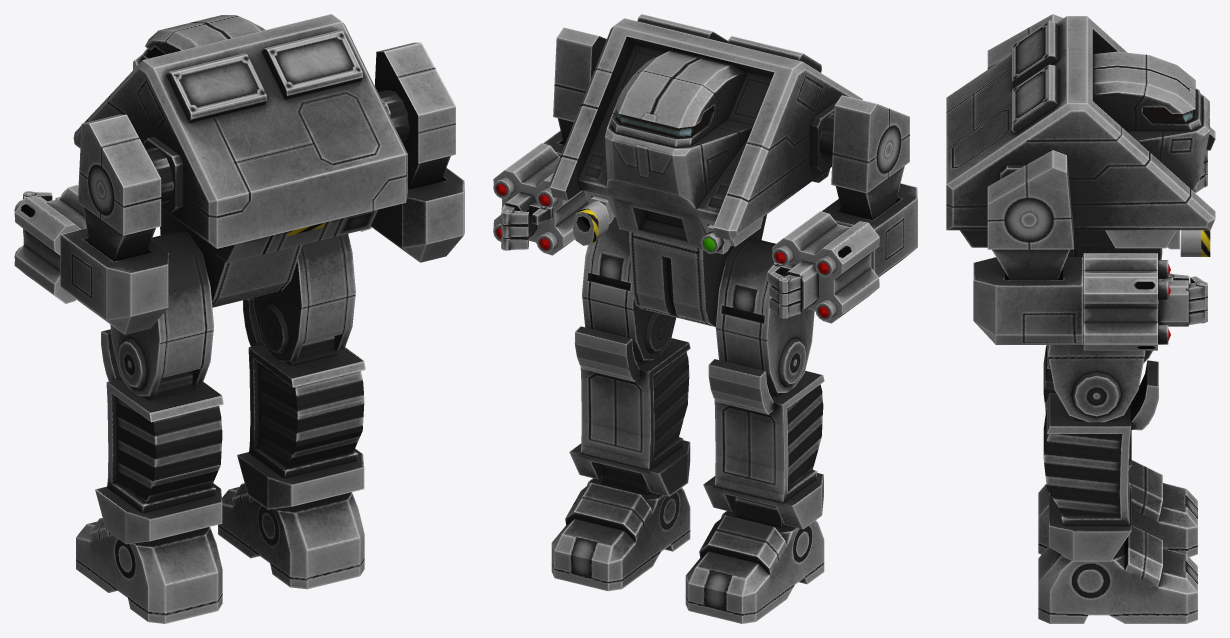
Rendered from Phantom_C.FBX.
The picture shows the model from 3 angles, left to right: view 1: azimuth 30°, elevation 25°; view 2: azimuth 150°, elevation 25°; view 3: azimuth 270°, elevation 25°; orthographic projection. The views are drawn at different scales.
Parts seen in each view (by area): view 1: torso, llowerleg, rlowerleg, llowerarm, lfoot, rfoot, lupperarm, lupperleg, rupperleg, rupperarm, rlowerarm, pelvis; view 2: torso, rlowerleg, llowerleg, lfoot, rfoot, llowerarm, lupperleg, lupperarm, pelvis, rupperleg, rlowerarm, rupperarm (+3 smaller); view 3: torso, rlowerarm, rlowerleg, rfoot, rupperarm, rupperleg, lfoot, rhand, mantlet_10, lupperarm, pelvis, llowerleg.
Boxes of the visible parts, x1=… form: torso: x1=73, y1=14, x2=407, y2=263; llowerleg: x1=95, y1=329, x2=223, y2=544; rlowerleg: x1=237, y1=298, x2=365, y2=509; llowerarm: x1=14, y1=184, x2=168, y2=334; lfoot: x1=76, y1=518, x2=222, y2=623; rfoot: x1=218, y1=483, x2=364, y2=589; lupperarm: x1=78, y1=114, x2=173, y2=261; lupperleg: x1=110, y1=232, x2=213, y2=396; rupperleg: x1=253, y1=234, x2=355, y2=361; rupperarm: x1=375, y1=42, x2=455, y2=189; rlowerarm: x1=360, y1=167, x2=464, y2=262; pelvis: x1=160, y1=208, x2=302, y2=307; torso: x1=549, y1=14, x2=862, y2=249; rlowerleg: x1=569, y1=326, x2=690, y2=496; llowerleg: x1=703, y1=359, x2=824, y2=529; lfoot: x1=685, y1=497, x2=824, y2=623; rfoot: x1=551, y1=464, x2=690, y2=591; llowerarm: x1=772, y1=183, x2=917, y2=323; lupperleg: x1=715, y1=238, x2=814, y2=392; lupperarm: x1=819, y1=95, x2=909, y2=220; pelvis: x1=629, y1=214, x2=766, y2=326; rupperleg: x1=582, y1=217, x2=676, y2=360; rlowerarm: x1=493, y1=130, x2=588, y2=255; rupperarm: x1=553, y1=27, x2=606, y2=144; torso: x1=946, y1=16, x2=1215, y2=248; rlowerarm: x1=973, y1=253, x2=1170, y2=350; rlowerleg: x1=1043, y1=360, x2=1158, y2=561; rfoot: x1=1038, y1=525, x2=1197, y2=623; rupperarm: x1=987, y1=150, x2=1073, y2=280; rupperleg: x1=1048, y1=263, x2=1145, y2=422; lfoot: x1=1038, y1=460, x2=1197, y2=557; rhand: x1=1158, y1=273, x2=1207, y2=326; mantlet_10: x1=1167, y1=230, x2=1210, y2=256; lupperarm: x1=987, y1=14, x2=1063, y2=69; pelvis: x1=1067, y1=246, x2=1162, y2=280; llowerleg: x1=1043, y1=300, x2=1158, y2=469.
Bounding box in the file's own units: 35.22 × 49.47 × 23.45.
Materials: 1 (1 with a texture image).
